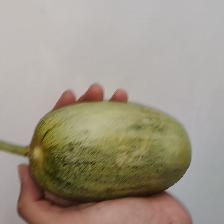gua: (34, 106, 189, 190)
